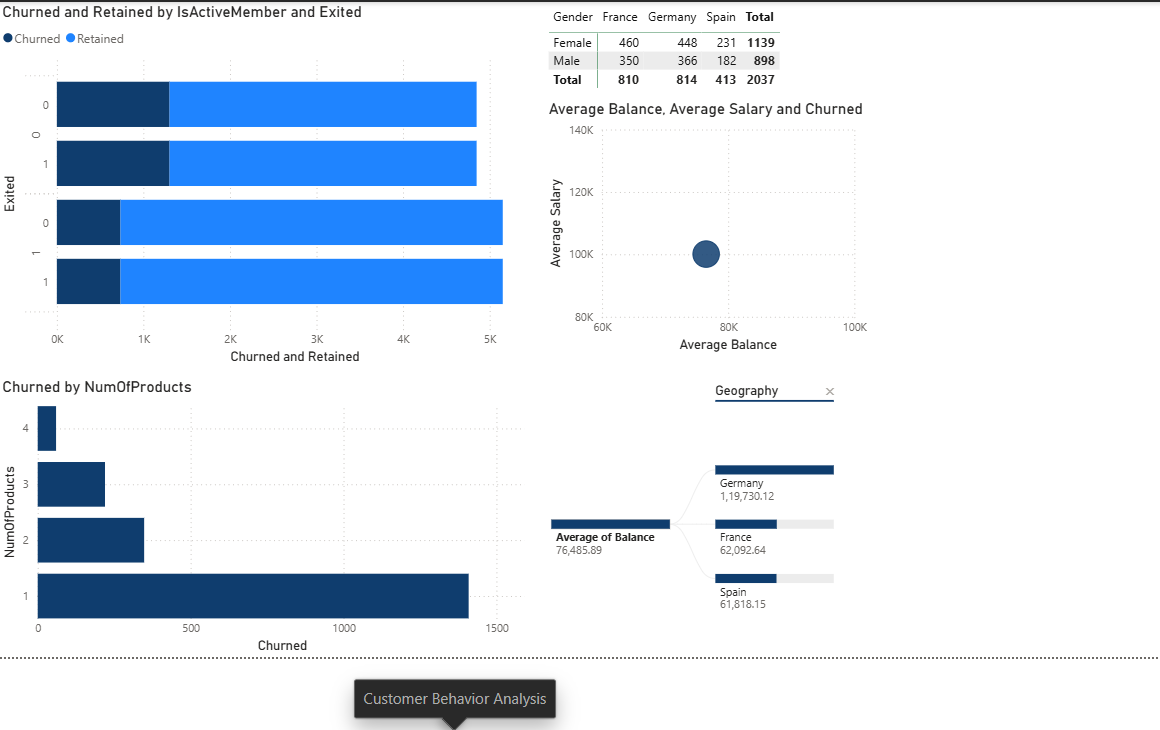

Layout of this report page (visuals, bound fields, positions):
{"tool":"powerbi","page":{"name":"Customer Behavior Analysis","canvas":[1280,720],"ordinal":1},"visuals":[{"type":"barChart","fields":{"Y":["Bank_Churn.Churned","Bank_Churn.Retained"],"Category":["Bank_Churn.IsActiveMember","Bank_Churn.Exited"]},"box":[0,0,599.5,402.4],"z":0},{"type":"barChart","fields":{"Y":["Bank_Churn.Churned"],"Category":["Bank_Churn.NumOfProducts"]},"box":[0,412,599,308],"z":1000},{"type":"pivotTable","fields":{"Values":["Bank_Churn.Churned"],"Rows":["Bank_Churn.Gender"],"Columns":["Bank_Churn.Geography"]},"box":[599.5,0,267.4,107.5],"z":2000},{"type":"scatterChart","fields":{"Size":["Bank_Churn.Churned"],"Y":["Avg(Bank_Churn.EstimatedSalary)"],"X":["Bank_Churn.Balance"]},"box":[599.5,107.5,359.7,282.5],"z":3000},{"type":"decompositionTreeVisual","fields":{"Analyze":["Avg(Bank_Churn.Balance)"],"ExplainBy":["Bank_Churn.Geography"]},"box":[577.4,402.4,403.8,294.9],"z":4000}]}

Visuals, with their boxes on the page's 1280x720 design canvas (x1, y1, x2, y2). These are canvas units, not pixel positions in the 1160x730 screenshot, which may show the page scaled, cropped or inside an application window:
barChart - Bank_Churn.Churned x Bank_Churn.Retained: 0:0:600:402
barChart - Bank_Churn.Churned x Bank_Churn.NumOfProducts: 0:412:599:720
pivotTable - Bank_Churn.Churned x Bank_Churn.Gender: 600:0:867:108
scatterChart - Bank_Churn.Churned x Avg(Bank_Churn.EstimatedSalary): 600:108:959:390
decompositionTreeVisual - Avg(Bank_Churn.Balance) x Bank_Churn.Geography: 577:402:981:697
